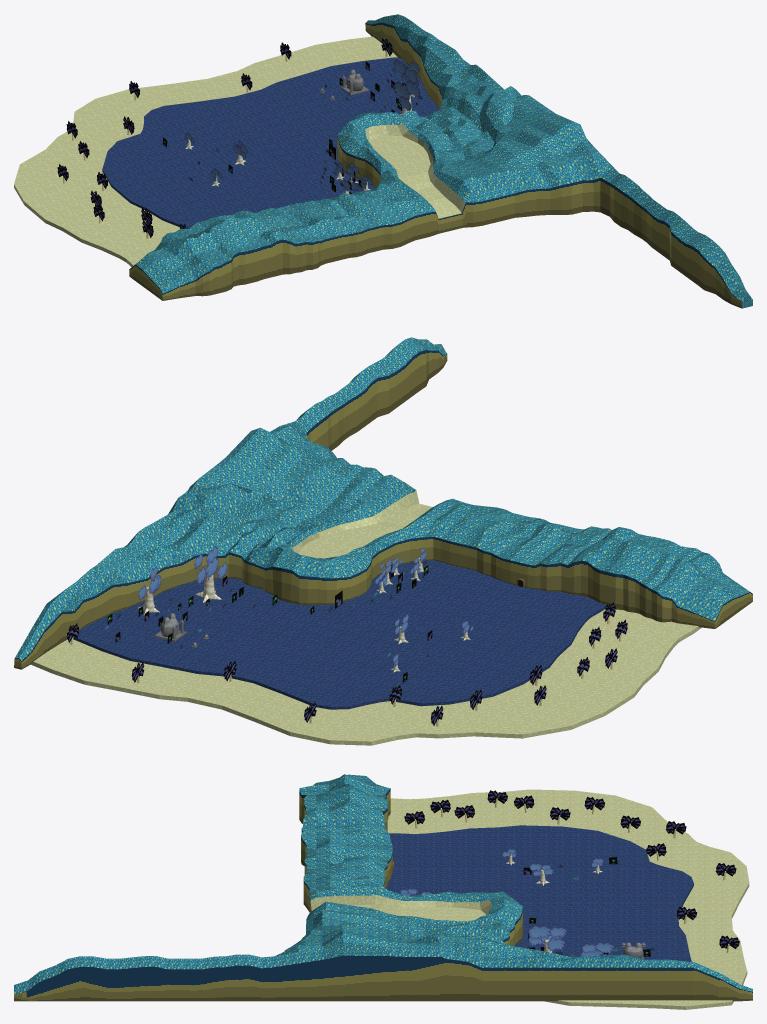
Rendered from jungle_ground.fbx.
The picture shows the model from 3 angles, top to bottom: view 1: azimuth 30°, elevation 25°; view 2: azimuth 150°, elevation 25°; view 3: azimuth 270°, elevation 25°; orthographic projection. The views are drawn at different scales.
Visible parts, largest first — view 1: pasted__pCube256, polySurface1, polySurface2; view 2: pasted__pCube256, polySurface1, polySurface2; view 3: pasted__pCube256, polySurface1, polySurface2.
Boxes of the visible parts, left/top/right/bottom form: pasted__pCube256: left=129, top=14, right=752, bottom=308; polySurface1: left=102, top=57, right=439, bottom=228; polySurface2: left=14, top=36, right=397, bottom=267; pasted__pCube256: left=14, top=337, right=752, bottom=669; polySurface1: left=73, top=560, right=606, bottom=709; polySurface2: left=31, top=609, right=701, bottom=745; pasted__pCube256: left=14, top=774, right=752, bottom=1001; polySurface1: left=386, top=825, right=693, bottom=961; polySurface2: left=387, top=789, right=749, bottom=1009.
Bounding box in the file's own units: 356 × 49.6 × 512.
